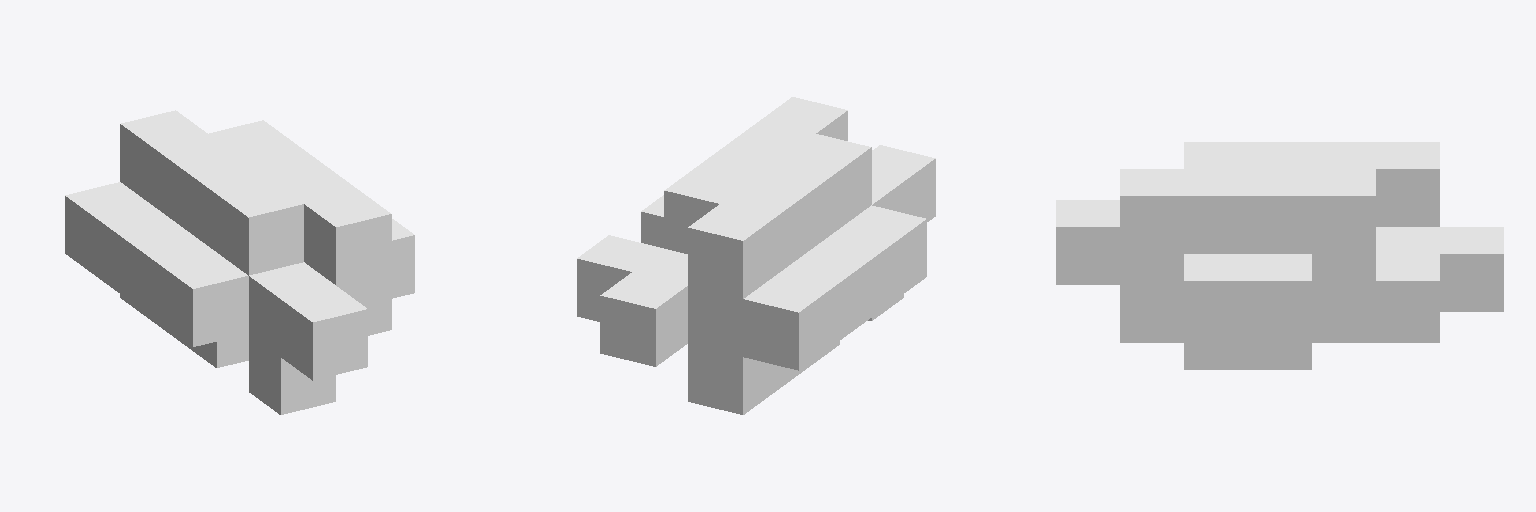
File: plantShot.obj
3 views of the same model, side by side, from view 1: azimuth 30°, elevation 25°; view 2: azimuth 150°, elevation 25°; view 3: azimuth 270°, elevation 25° (orthographic).
Parts seen in each view (by area): view 1: object 1; view 2: object 1; view 3: object 1.
Boxes of the visible parts, box(x1,y1,x2,y2) form: object 1: box(65, 110, 414, 414); object 1: box(577, 97, 935, 414); object 1: box(1056, 142, 1503, 369).
Bounding box in the file's own units: 0.4 × 0.3 × 0.7.